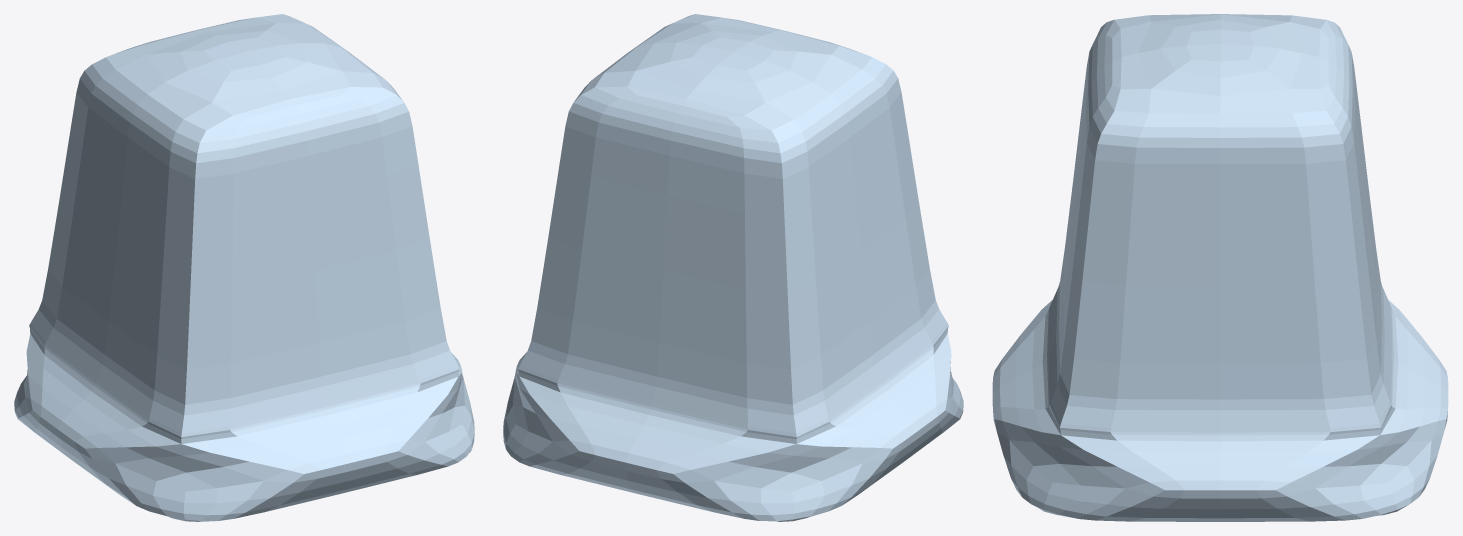
File: block.glb
3 views of the same model, side by side, from view 1: azimuth 30°, elevation 25°; view 2: azimuth 150°, elevation 25°; view 3: azimuth 270°, elevation 25° (orthographic). The views are drawn at different scales.
Visible parts, largest first — view 1: Snowball; view 2: Snowball; view 3: Snowball.
Part boxes in pixels (x1,y1,x2,y2): Snowball: (14,14,474,521); Snowball: (503,14,963,521); Snowball: (992,14,1448,521).
Bounding box in the file's own units: 1.94 × 1.86 × 1.94.
